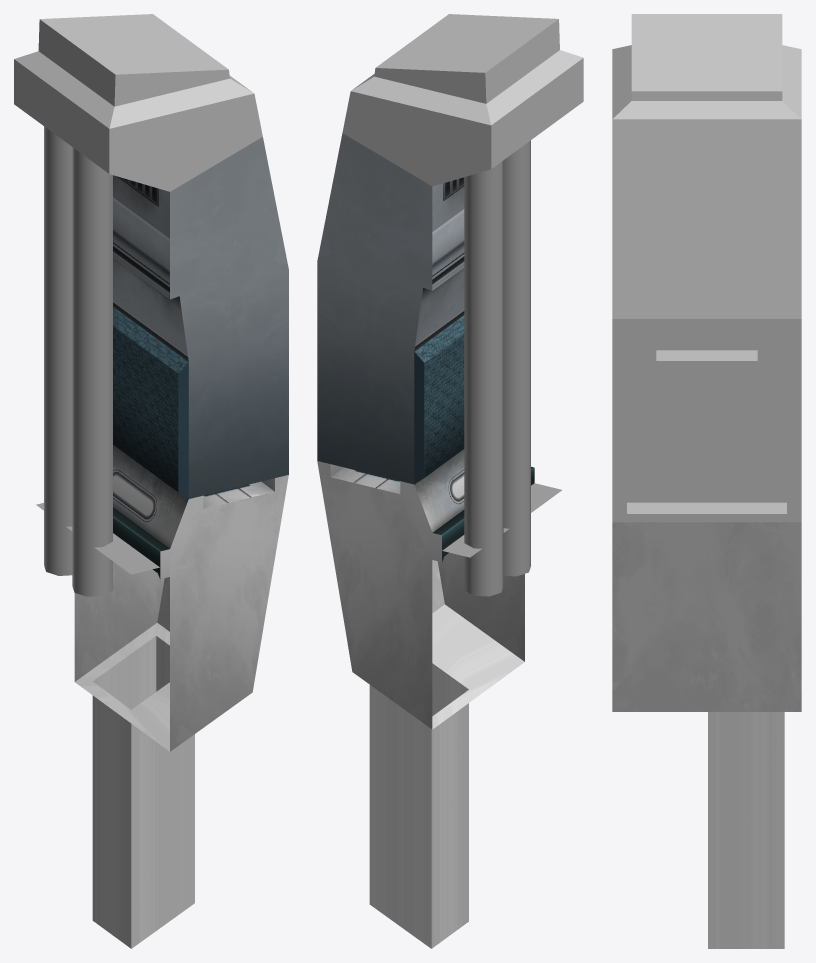
Rendered from SpacialWall_01_ST.fbx.
3 renders of one model, left to right at view 1: azimuth 30°, elevation 25°; view 2: azimuth 150°, elevation 25°; view 3: azimuth 270°, elevation 25°, orthographic. The views are drawn at different scales.
Visible parts, largest first — view 1: SpacialWall_01; view 2: SpacialWall_01; view 3: SpacialWall_01.
Part boxes in pixels (bbox=[...]): SpacialWall_01: bbox=[14, 14, 288, 948]; SpacialWall_01: bbox=[317, 14, 583, 948]; SpacialWall_01: bbox=[612, 14, 801, 948].
Bounding box in the file's own units: 1.09 × 5.3 × 1.
